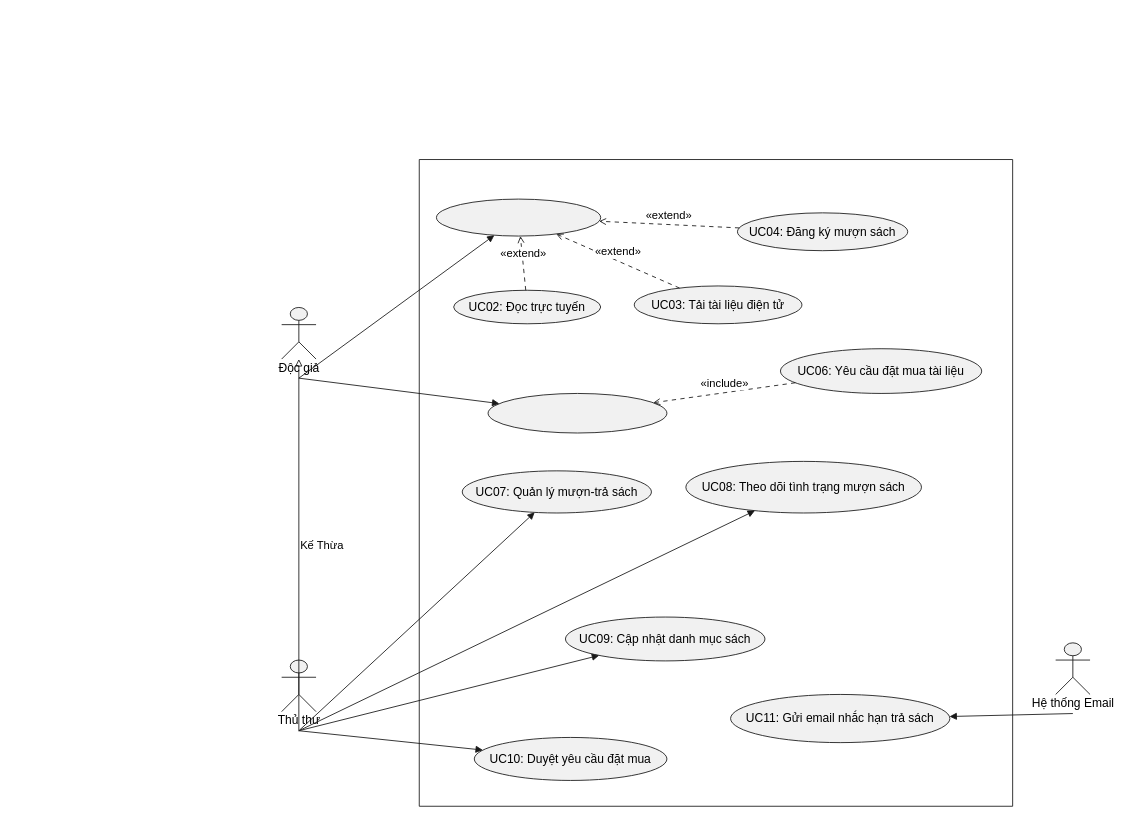
Image size: 1136x821. Some labels were removed from this diagram. The box of each missing label's shape, as (x1, y1, x2, y2) in pixels:
UC01: Tìm kiếm tài liệu: (436, 198, 601, 236)
UC05: Đăng ký / Đăng nhập: (487, 393, 667, 433)
